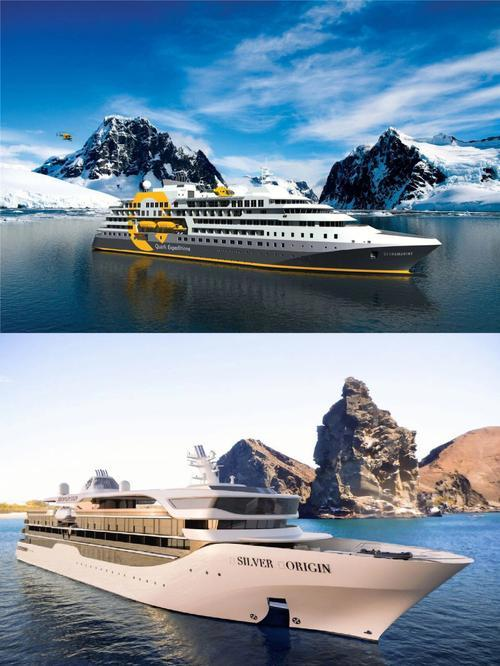Ship: (22, 465, 473, 652), (100, 183, 446, 284)
